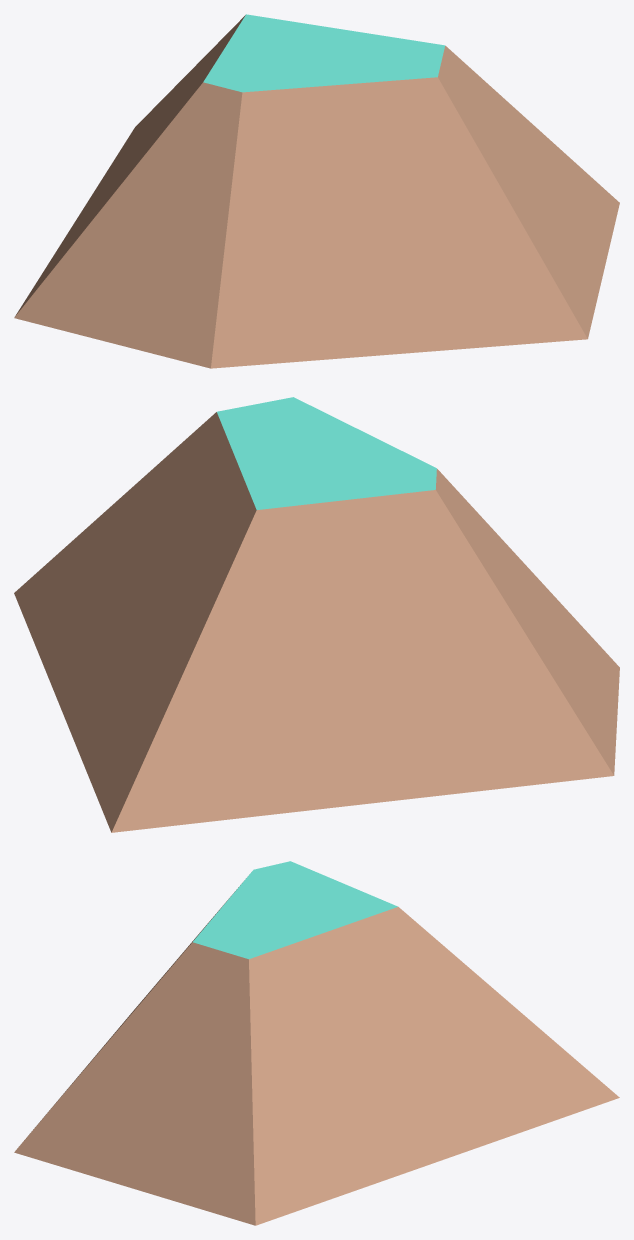
File: rock_smallC.glb
3 renders of one model, top to bottom at view 1: azimuth 30°, elevation 25°; view 2: azimuth 150°, elevation 25°; view 3: azimuth 270°, elevation 25°, orthographic. The views are drawn at different scales.
Parts seen in each view (by area): view 1: rock_smallC; view 2: rock_smallC; view 3: rock_smallC.
Part boxes in pixels (box(x1,y1,x2,y2)): rock_smallC: box(14, 14, 619, 368); rock_smallC: box(14, 397, 619, 832); rock_smallC: box(14, 861, 619, 1225).
Size of the model in its own units: 0.9994 by 0.3398 by 0.9994.
